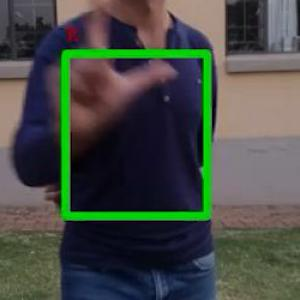land_hand: (50, 0, 185, 156)
